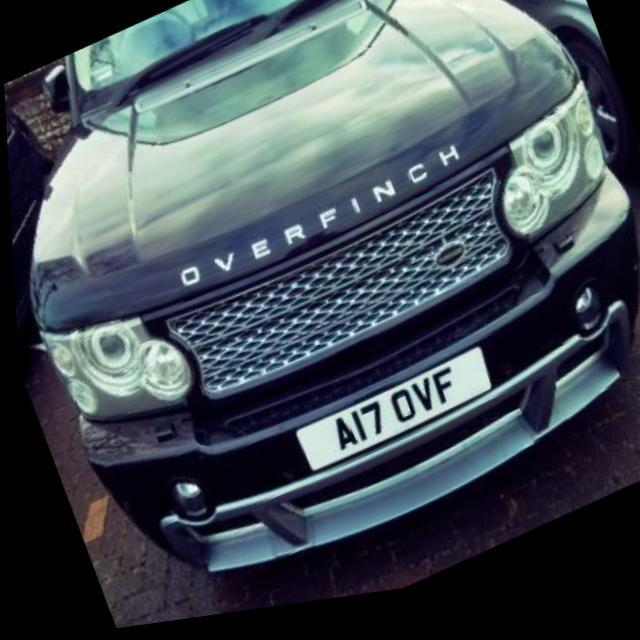license_plate: (287, 358, 493, 484)
